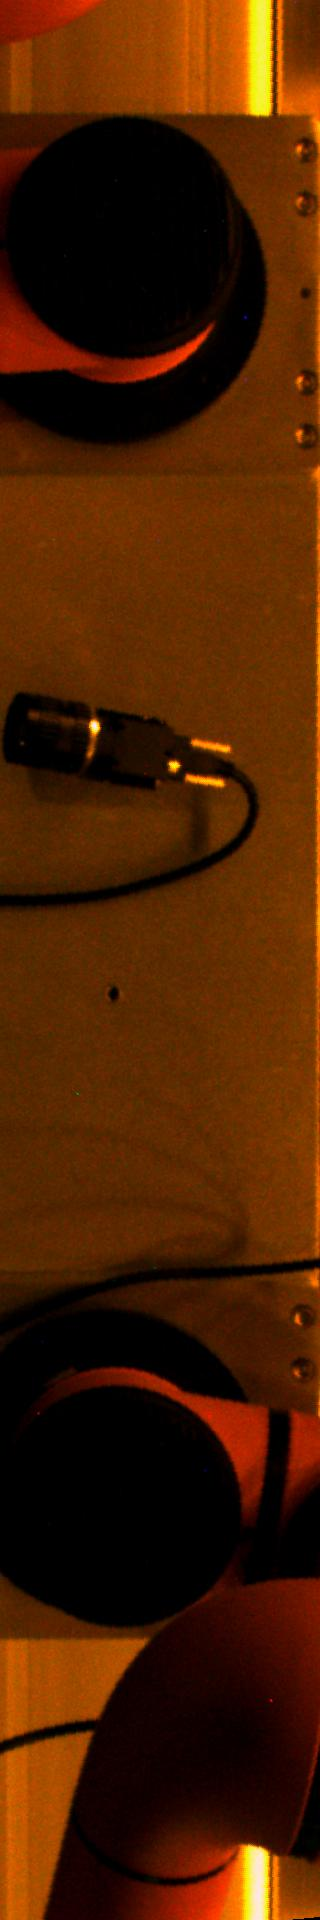keyPoint_2: (98, 980, 128, 1009)
